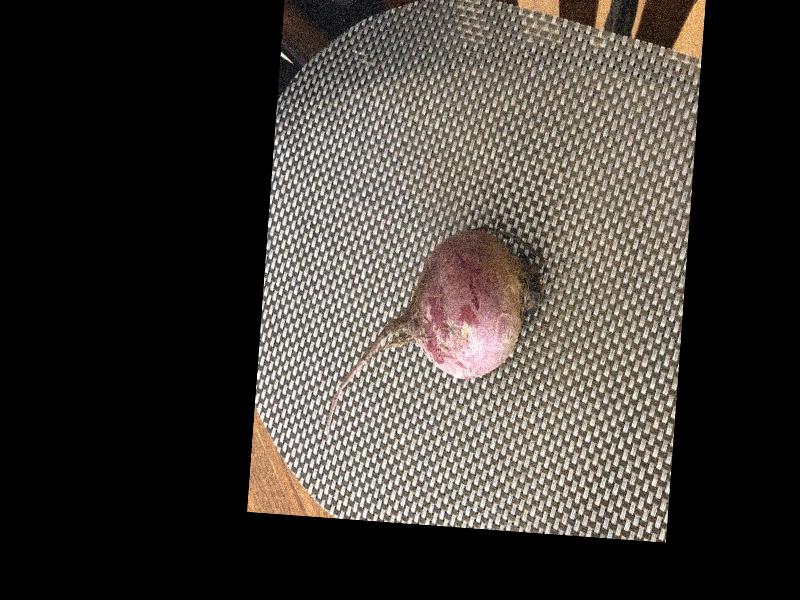Beet: (324, 218, 548, 450)
